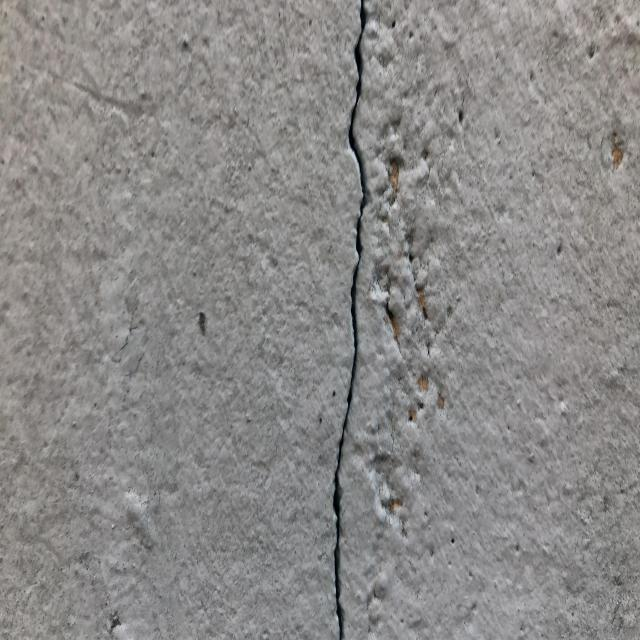SurfaceCrack: (281, 1, 416, 640)
